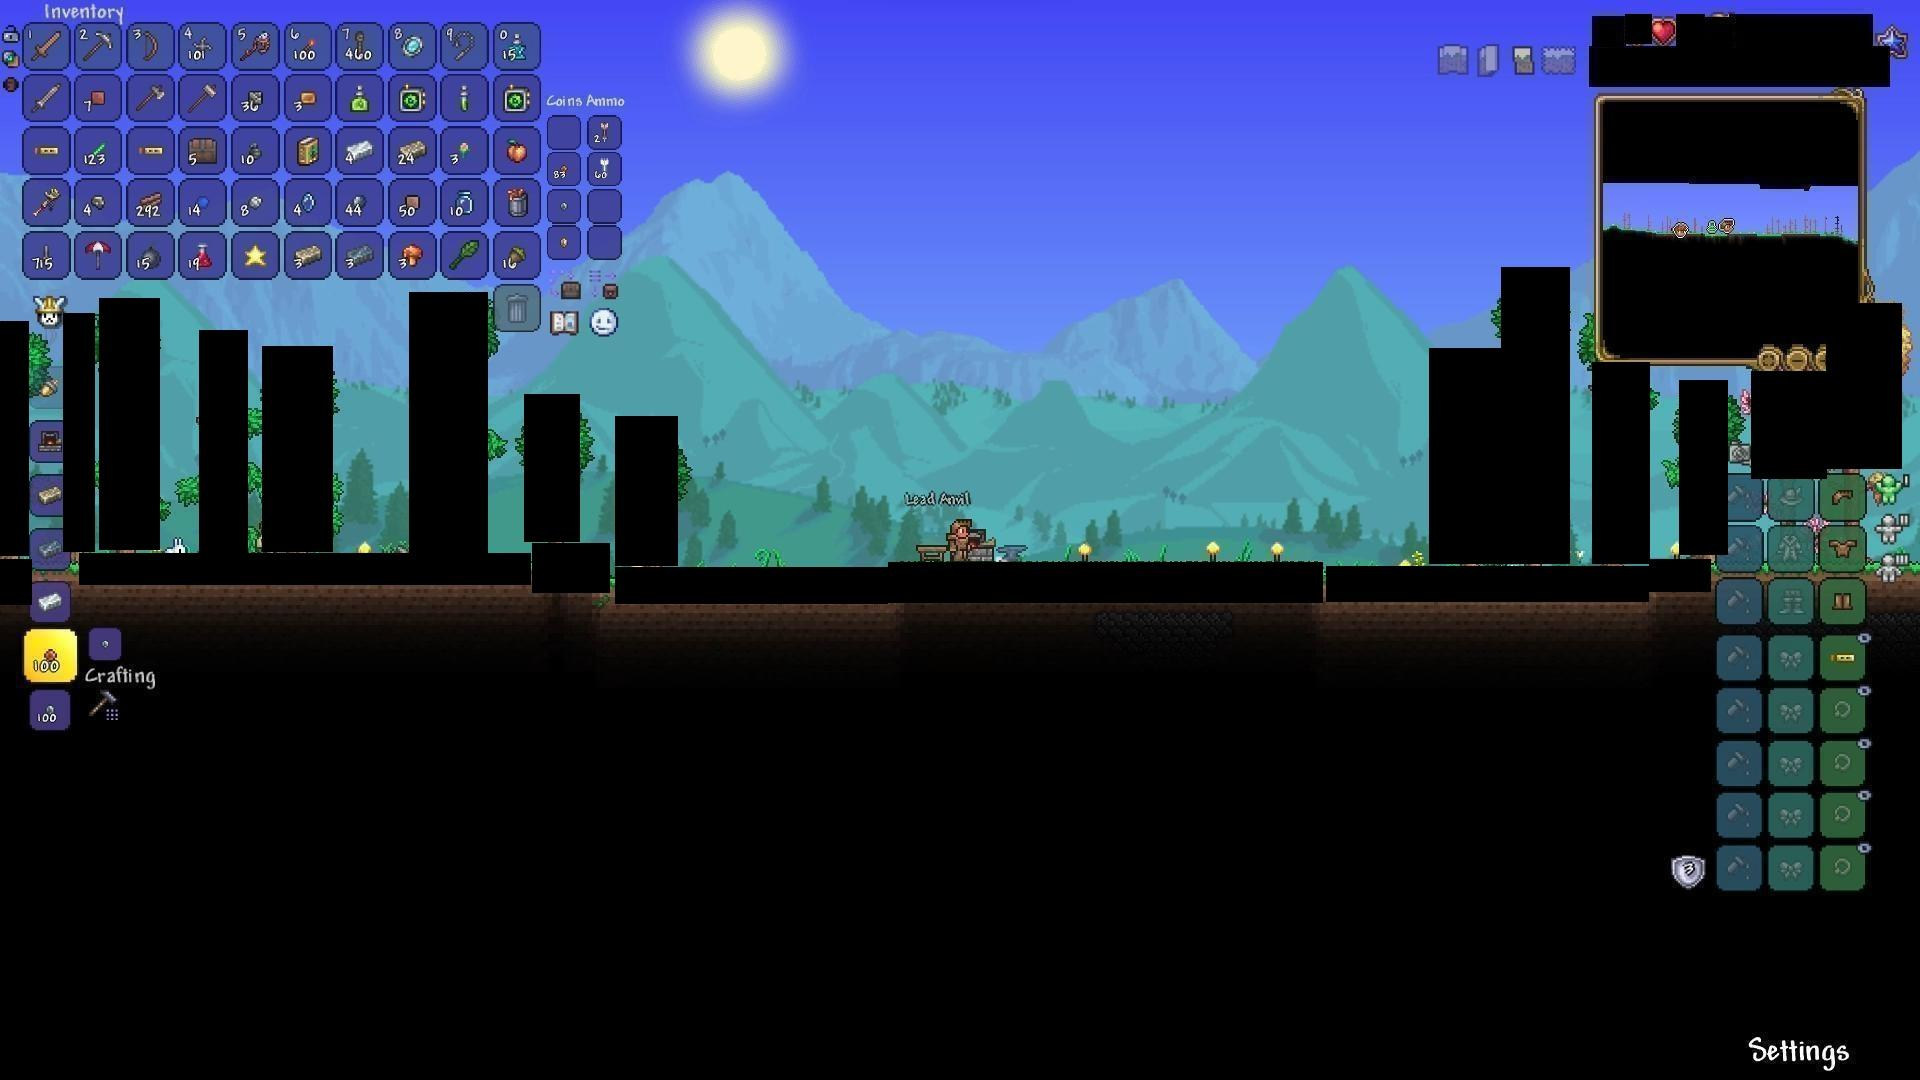breastplate: (1830, 538, 1858, 558)
heart: (1650, 16, 1676, 49)
helmet: (1829, 485, 1857, 510)
legs: (1830, 589, 1857, 615)
wood: (133, 186, 164, 214)
workbench: (915, 537, 952, 562)
